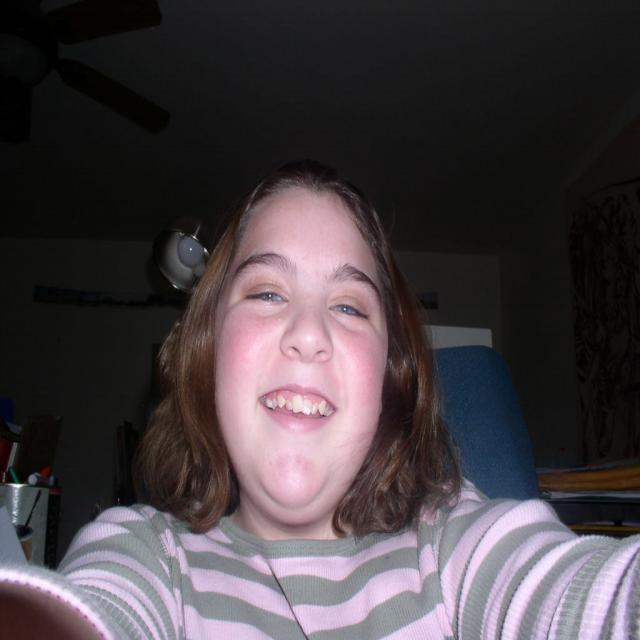bulb_off: (180, 232, 205, 264)
fan_off: (0, 0, 176, 154)
